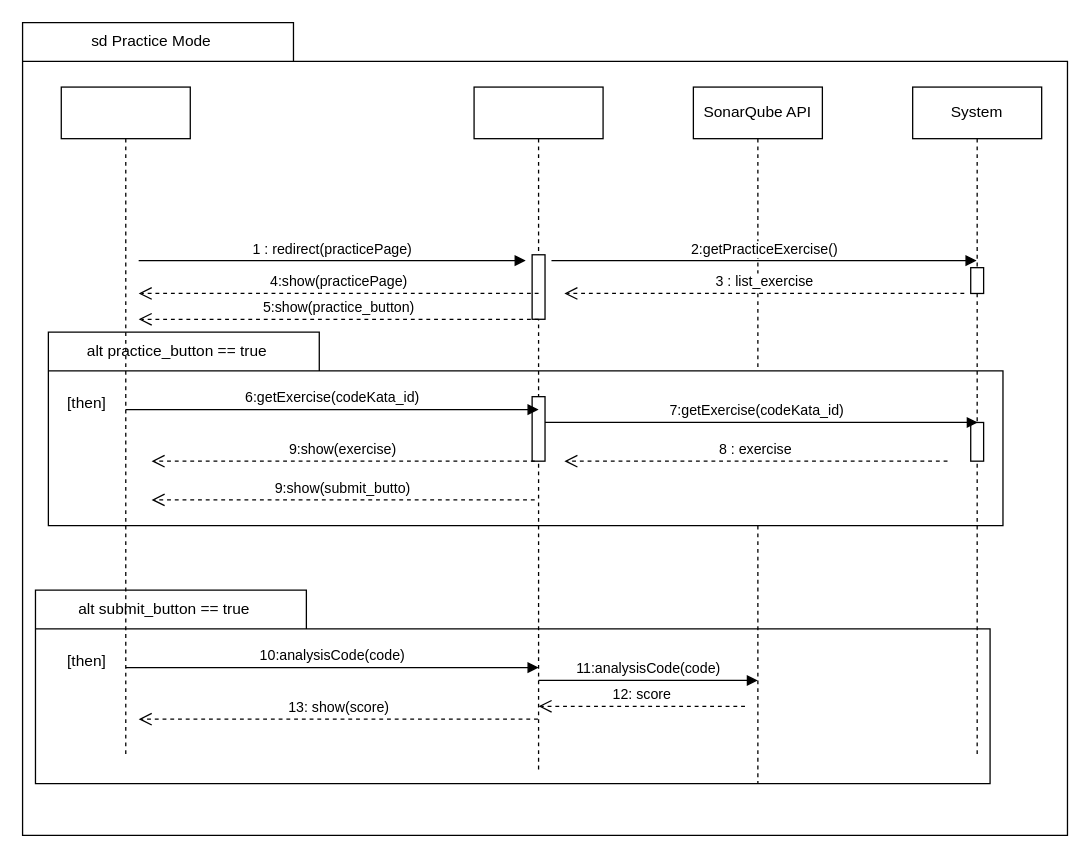
Some shapes in this 1090 by 858 pixel diagram are drawn without their labels. Each missing label, with the box of its shape:
CKB Web App: (473, 86, 603, 771)
Student: (60, 86, 190, 758)
